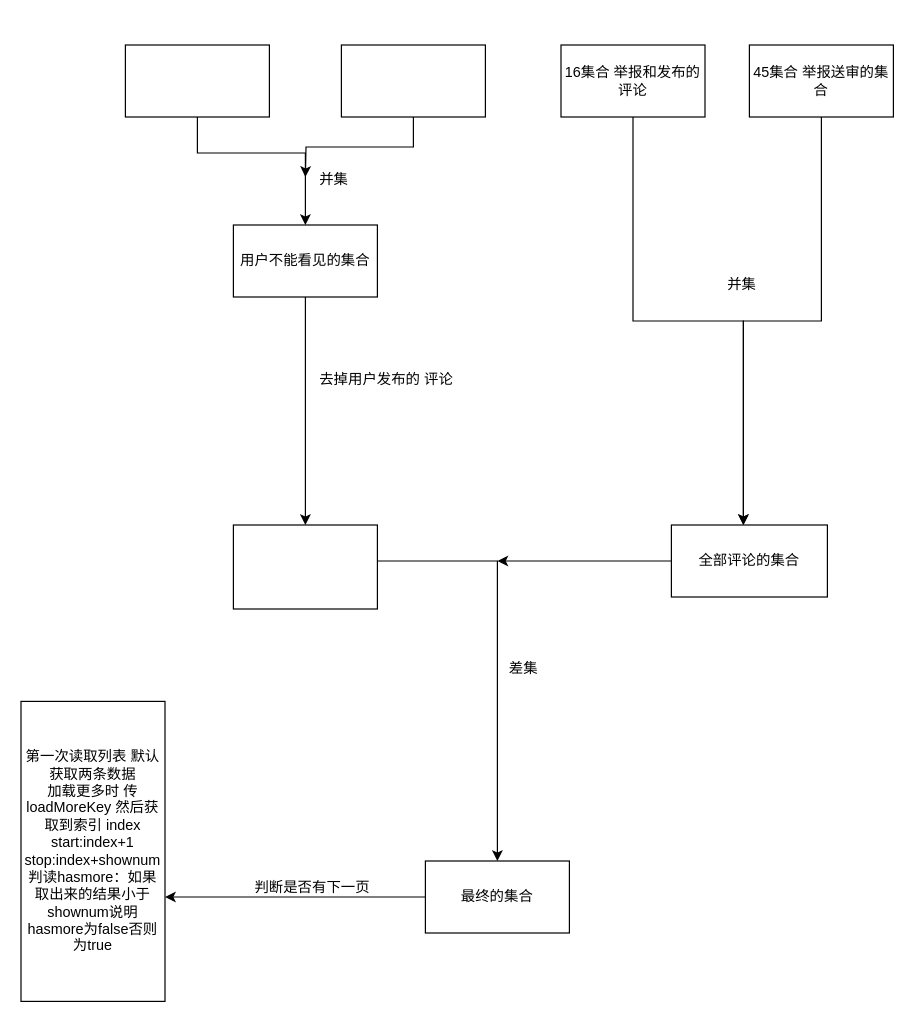
Image size: 914x1022. Some labels were removed from this diagram. Each missing label, with the box of its shape:
用户不能看见的集合（去掉用户发布的）: (232, 524, 377, 609)
用户举报的集合: (124, 44, 269, 117)
达到设置举报次数的集合: (340, 44, 485, 117)
